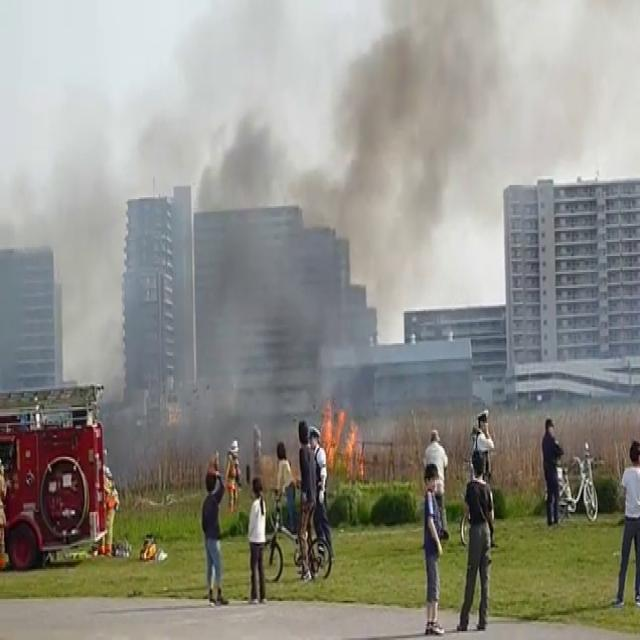Fire: (321, 392, 364, 472)
Smoke: (40, 1, 598, 431)
